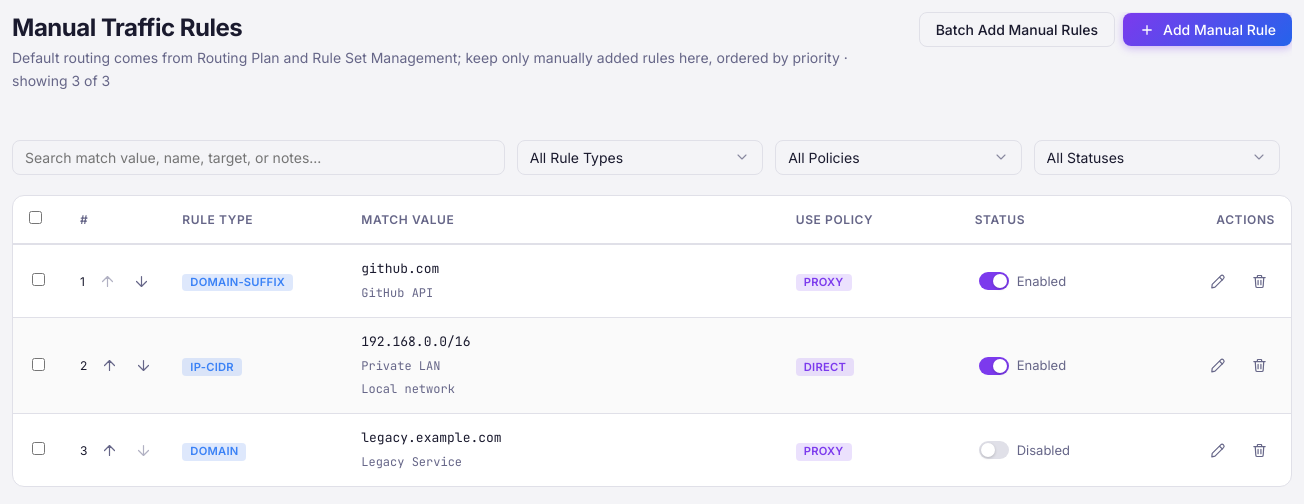
Test: Rules filters › combines rule type and status filters while preserving global order numbers
Expected: the text "showing 3 of 3" is shown, [12,49,848,89]
Select "DOMAIN" in the dropdown named "Rule Type" at [640, 158], box [517,140,763,175]
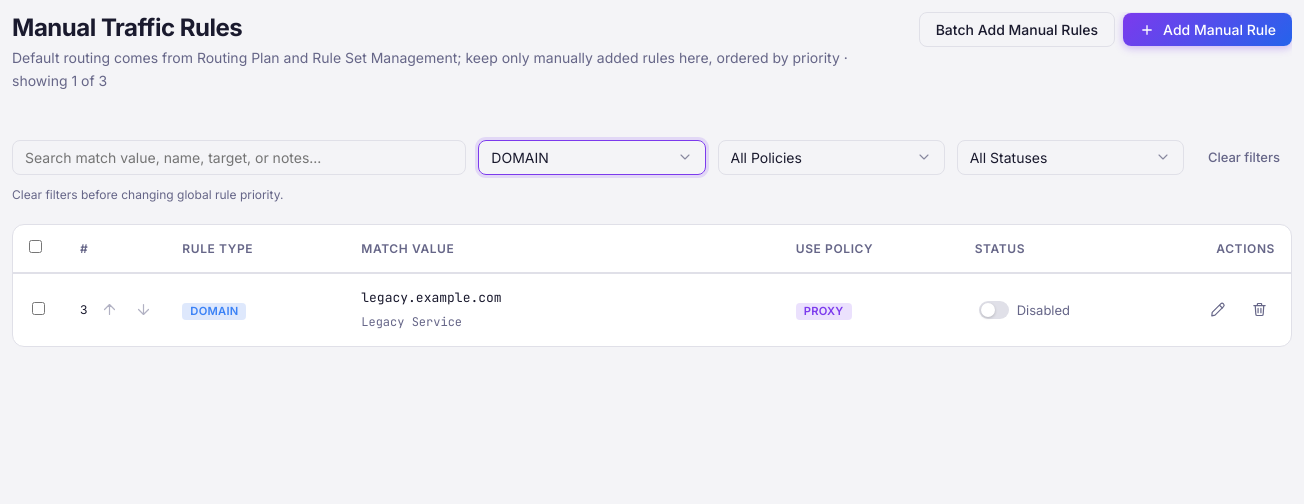
Select "Disabled" in the dropdown named "Status" at [1070, 158], box [957,140,1184,175]
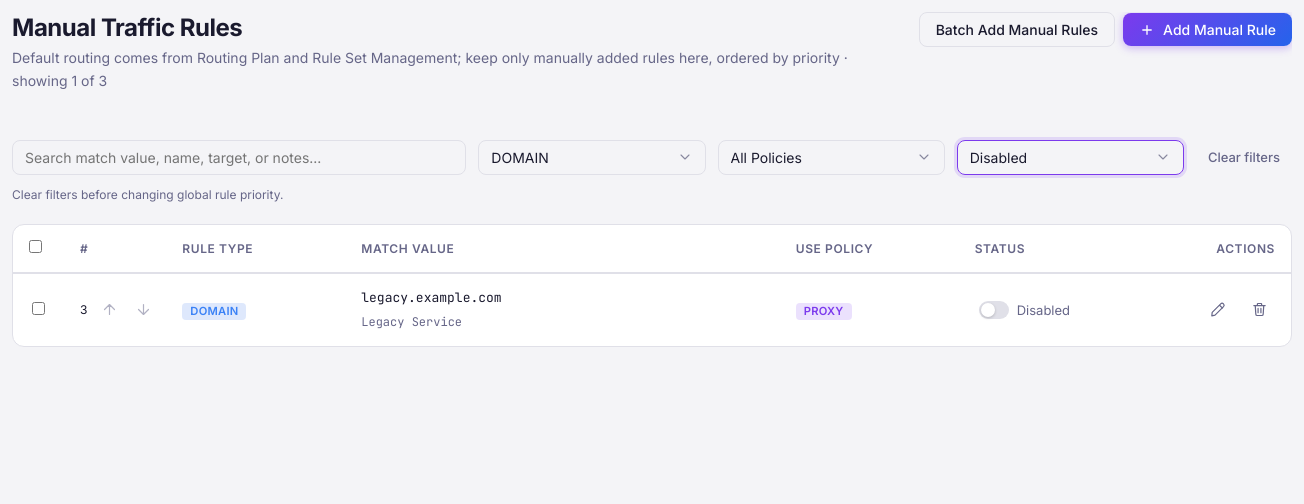
Expected: the text "legacy.example.com" is shown, [361,289,502,306]
Result: the text "showing 1 of 3" is shown at [12,49,848,89]
Result: the button titled "Clear filters before changing global rule priority." is disabled at [94,294,126,326]
Click the button "Clear filters" at [1244, 158], box [1196,144,1292,172]
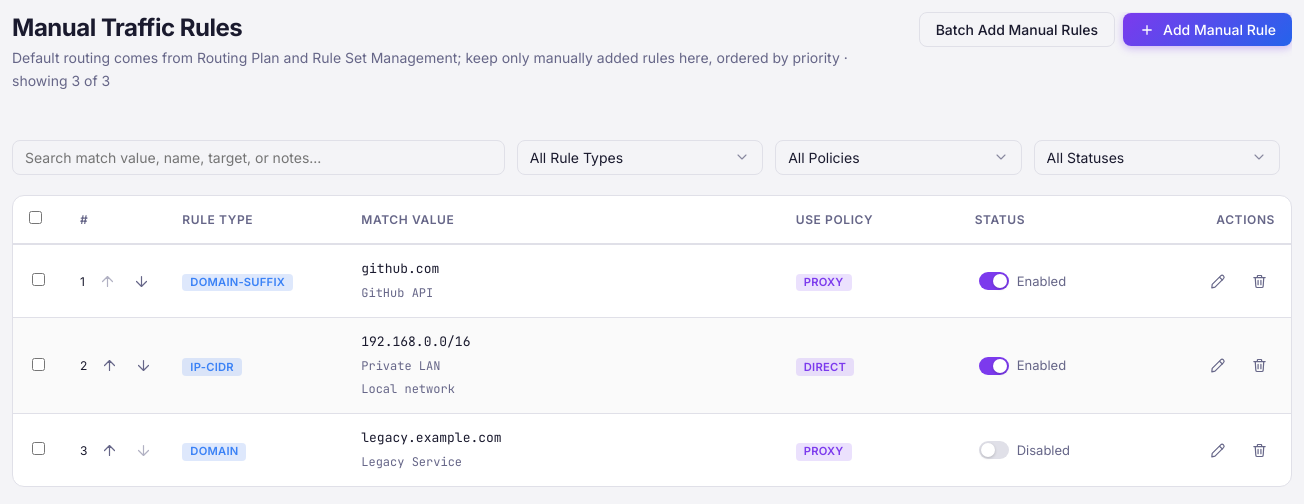
Result: the text "github.com" is shown at [361,260,439,277]
Result: the text "192.168.0.0/16" is shown at [361,333,470,350]
